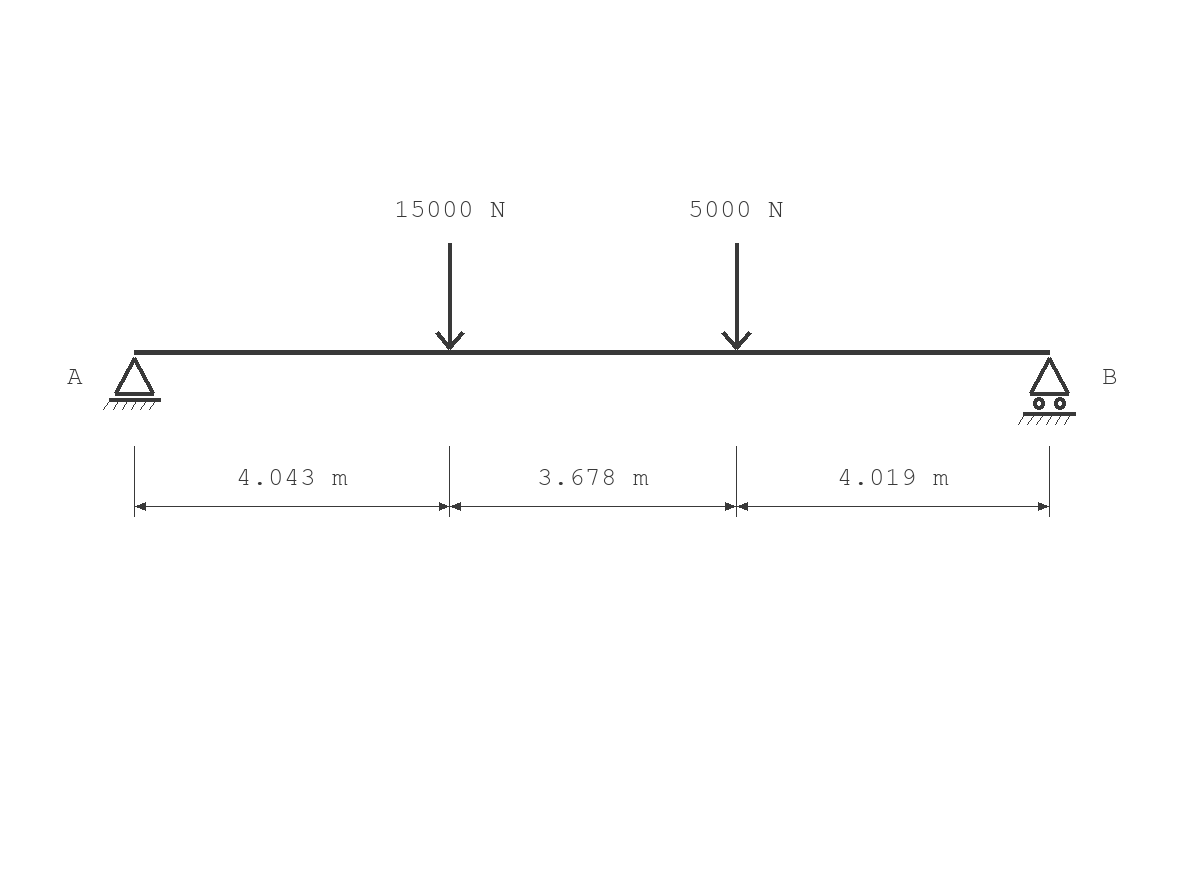pin_support: (103, 357, 161, 410)
point_load: (721, 243, 752, 350), (435, 243, 465, 350)
roller_support: (1018, 357, 1076, 425)
